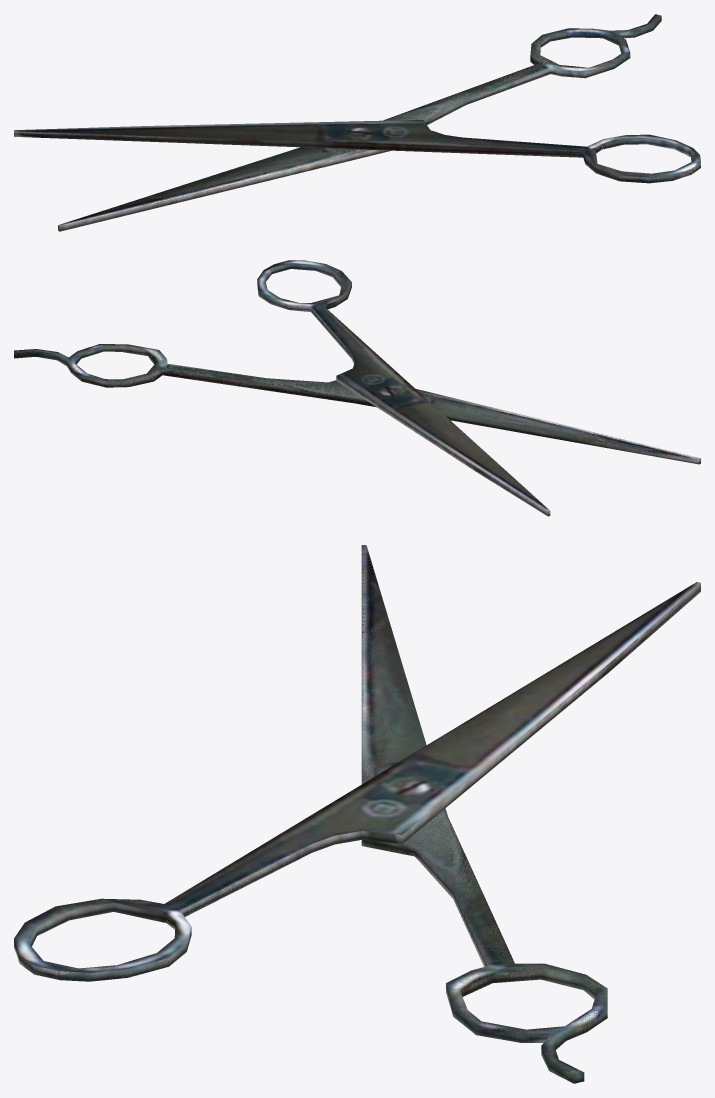
File: scissors.dae
3 renders of one model, top to bottom at view 1: azimuth 30°, elevation 25°; view 2: azimuth 150°, elevation 25°; view 3: azimuth 270°, elevation 25°, orthographic. The views are drawn at different scales.
Visible parts, largest first — view 1: top (×2), bottom (×2); view 2: top (×2), bottom (×2); view 3: top (×2), bottom (×2).
Boxes of the visible parts, x1,y1,x2,y2 form: top (×2): (14,120,700,183); bottom (×2): (58,14,661,231); top (×2): (257,260,550,516); bottom (×2): (14,344,700,464); top (×2): (14,582,700,981); bottom (×2): (361,545,607,1083).
Size of the model in its own units: 7.98 by 4.37 by 0.125.
